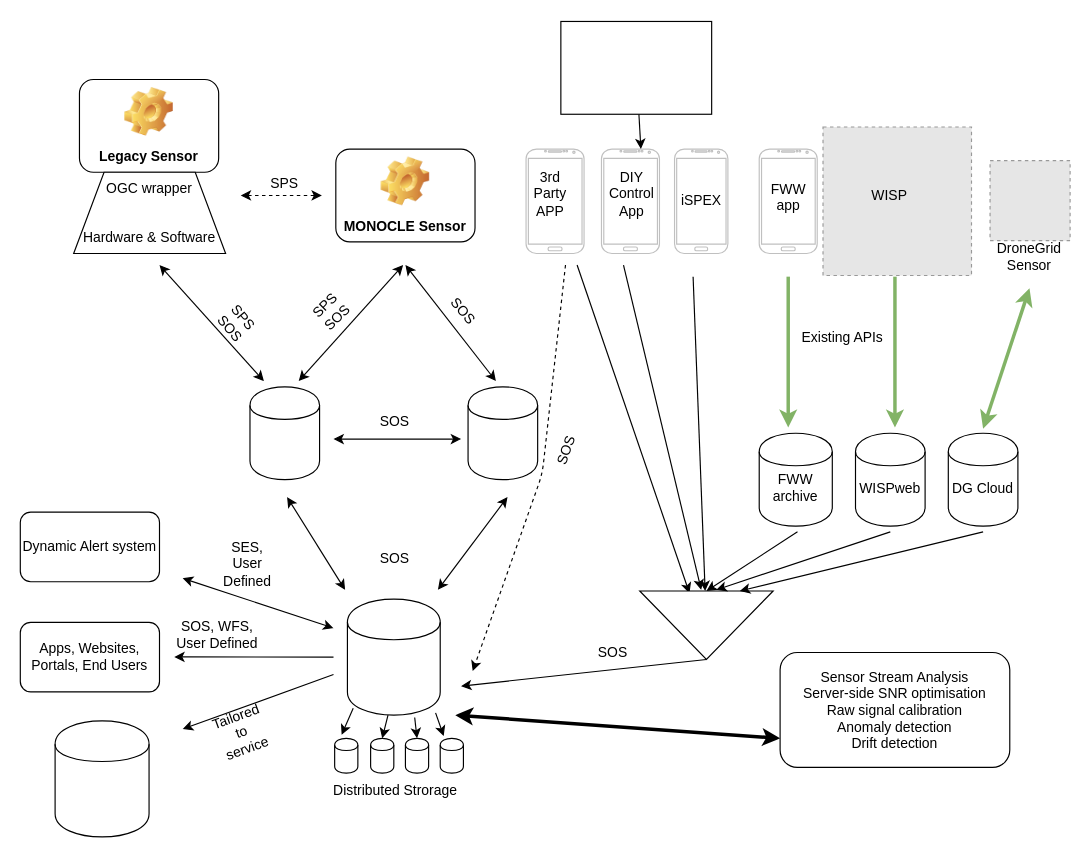
Some shapes in this 1090 by 857 pixel diagram are drawn without their labels. Grey dashed boxes stand in for pictures. Each missing label, with the centre of its shape:
DIY Instruments KdUINO Turbidity Meter RGB Camera: point (636, 67)
GEOSS , EEA, public archives: point (101, 778)
Local data archive: point (502, 433)
MONOCLE Backend: point (393, 656)
OGC Wrapper: point (706, 624)
sensor platform: point (284, 433)
